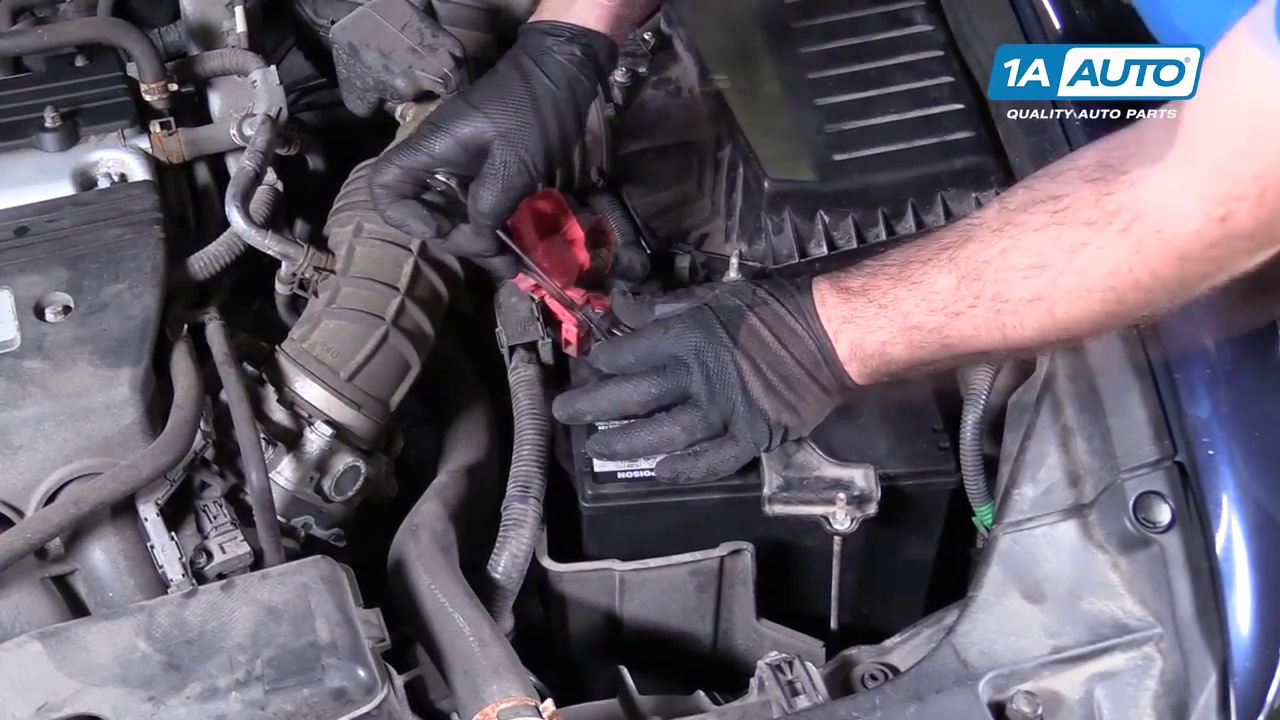battery: (549, 282, 965, 499)
pos_touched: (487, 169, 663, 414)
